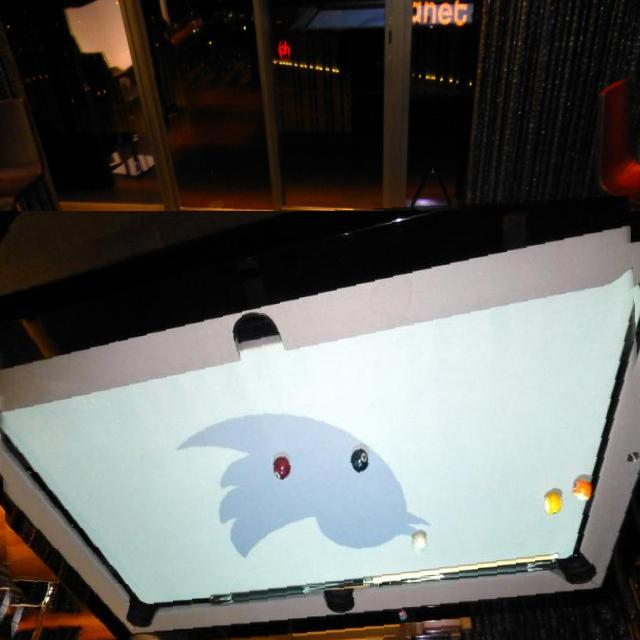Ball: (536, 322, 558, 346), (566, 336, 588, 360), (268, 372, 288, 397), (347, 375, 366, 400), (403, 290, 420, 312)
Billiard table: (0, 203, 640, 640)
